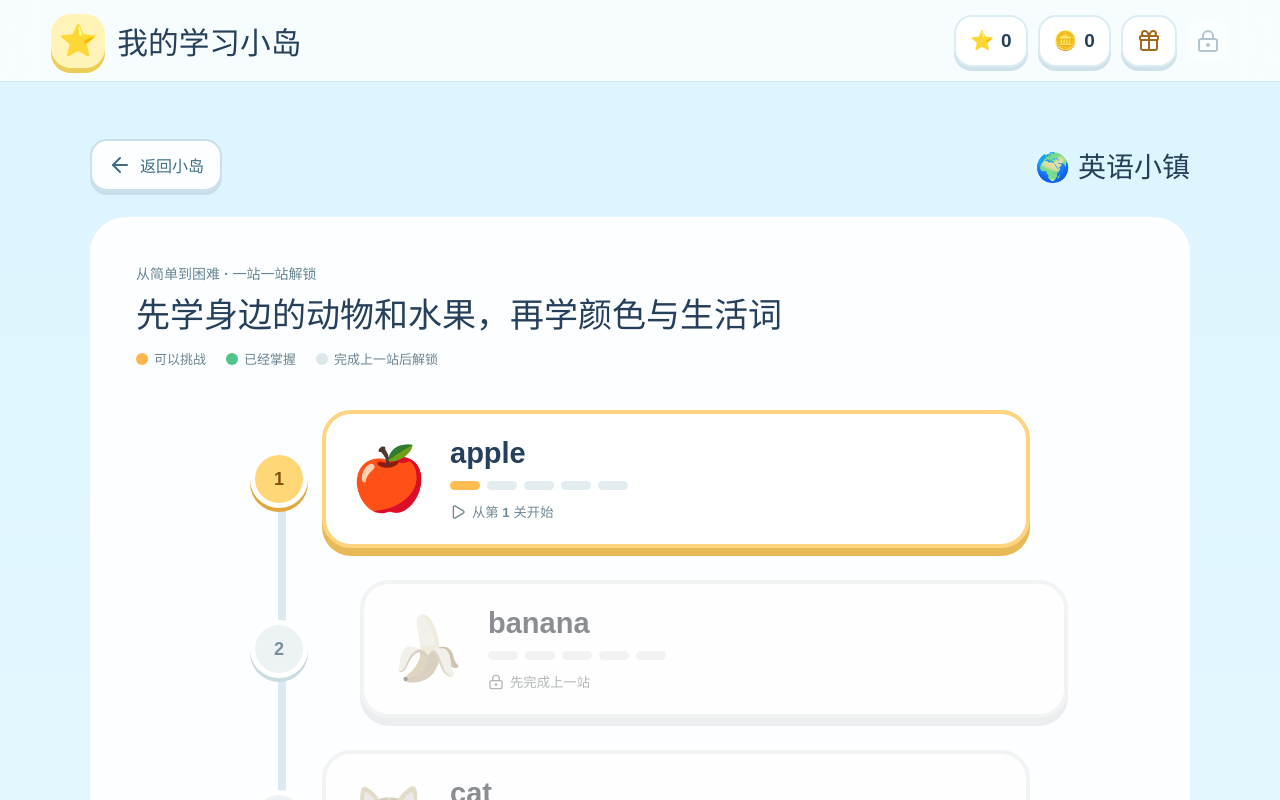
Test case: 我的学习小岛 › 开启后可完成英语知识点的五关挑战
The width and height of the screenshot is (1280, 800).
Earlier steps of the test are not shown.
Click the button with aria-label "apple，开始五关挑战".
click(389, 478)  # box [322,410,1030,548]
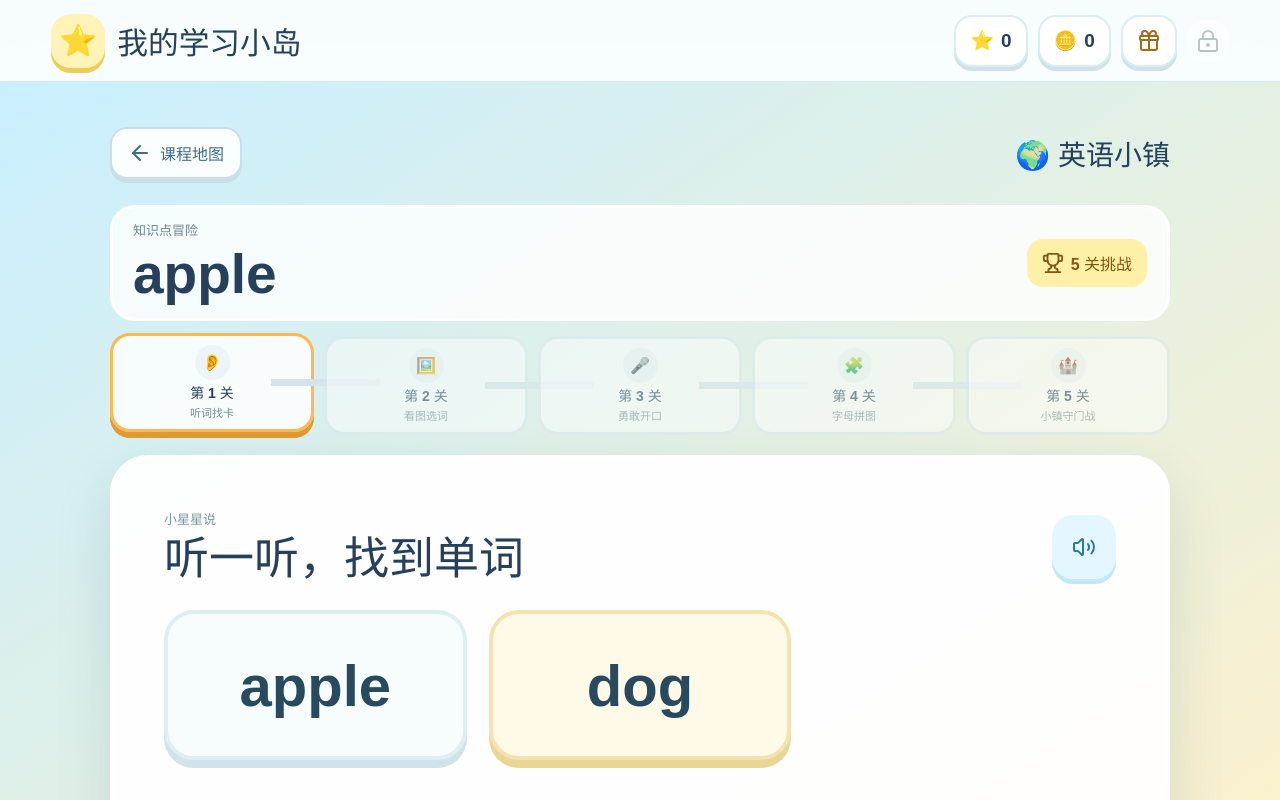
Result: the text "5 关挑战" is shown at [1027,239,1147,287]
Click the button "apple".
click(315, 685)  # box [164,610,467,760]
(page scrolled)
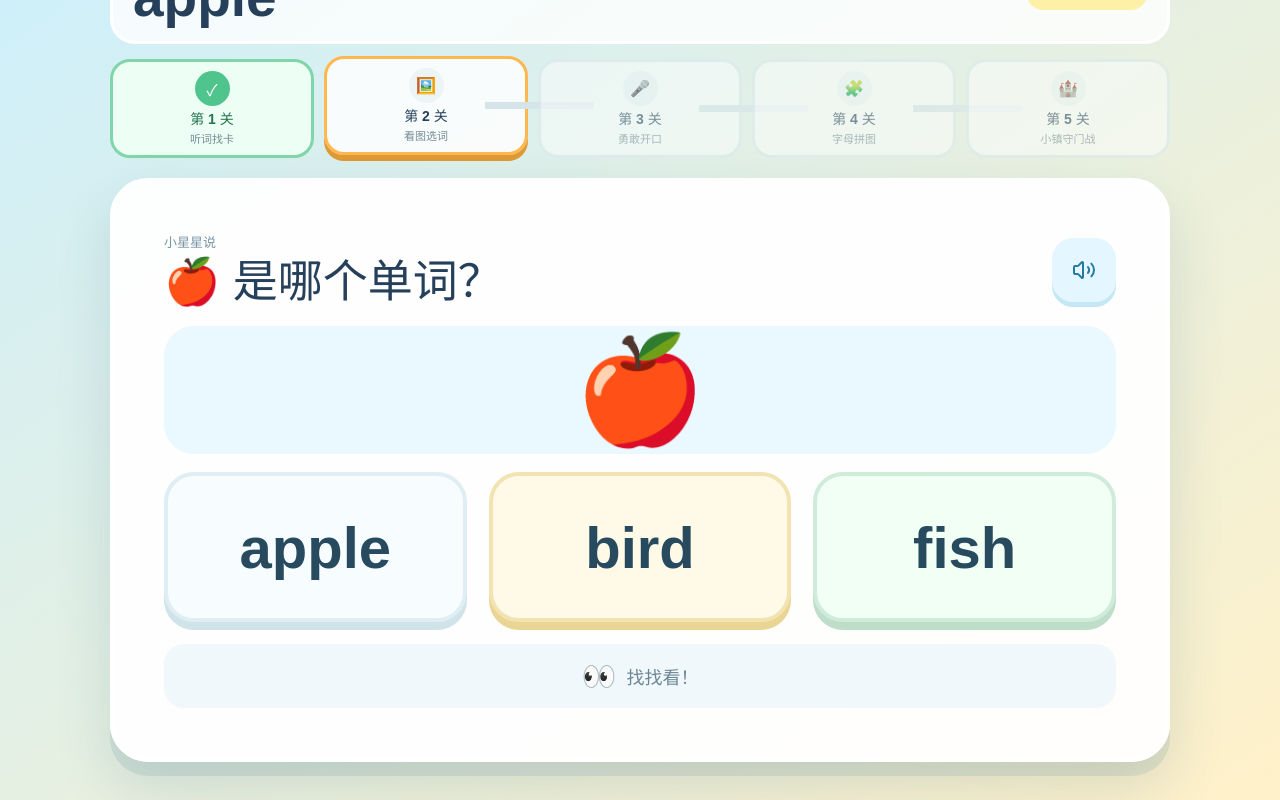
Click the button "apple".
click(315, 547)  # box [164,472,467,622]
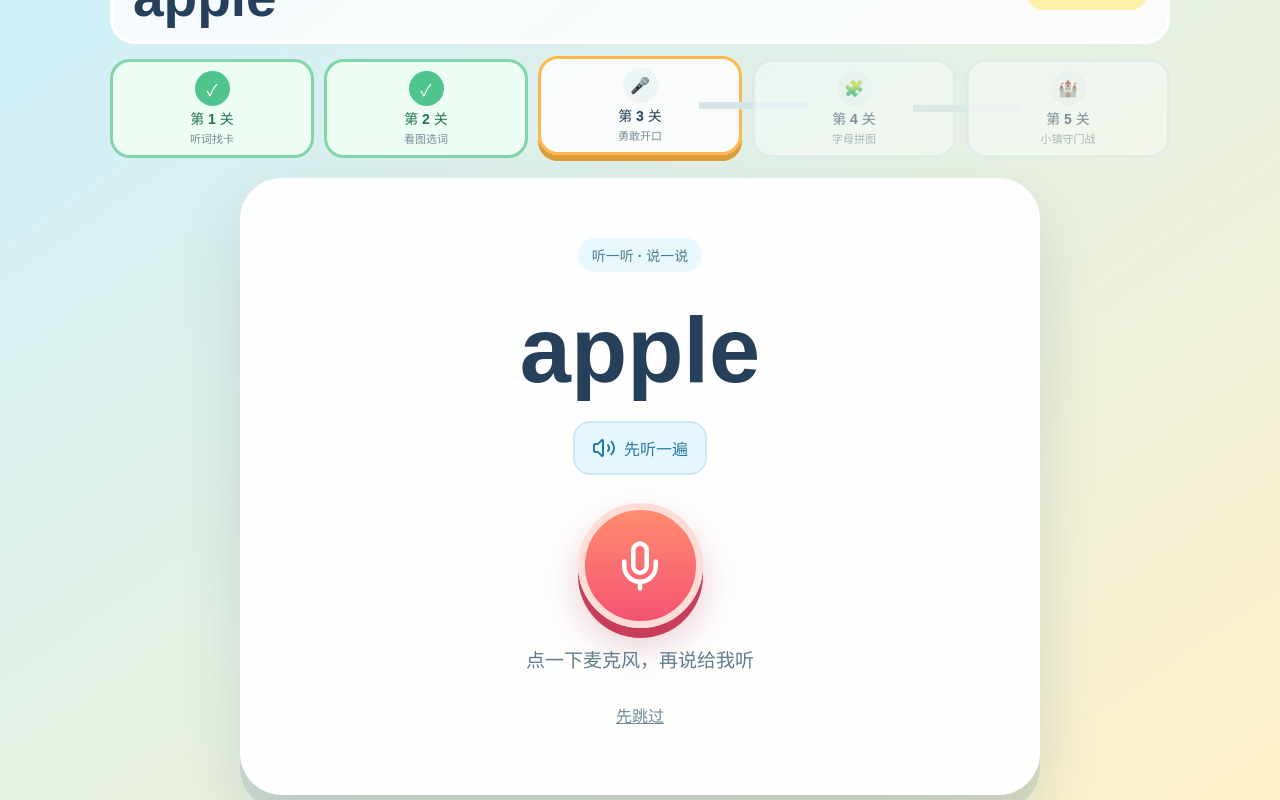
Click the button "先跳过".
click(640, 715)  # box [602,695,678,735]
(page scrolled)
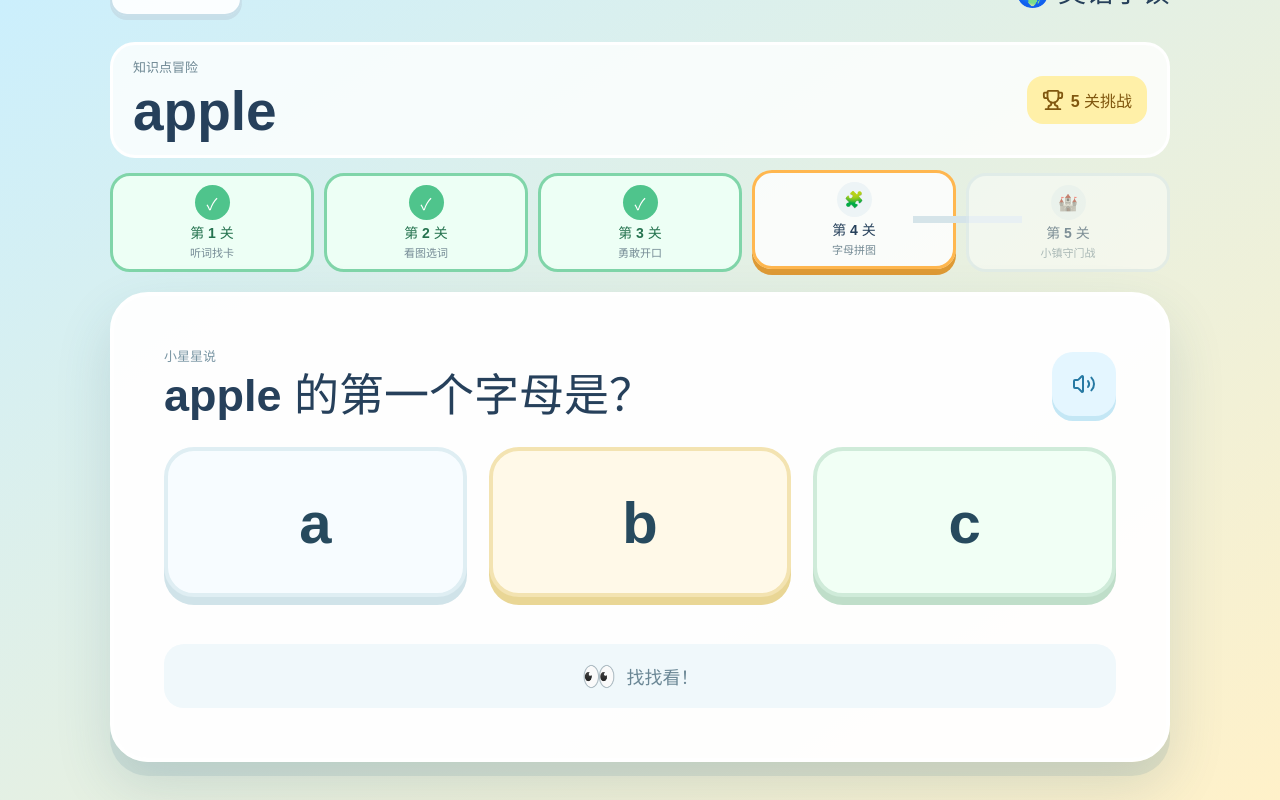
Click the button "a".
click(315, 522)  # box [164,447,467,597]
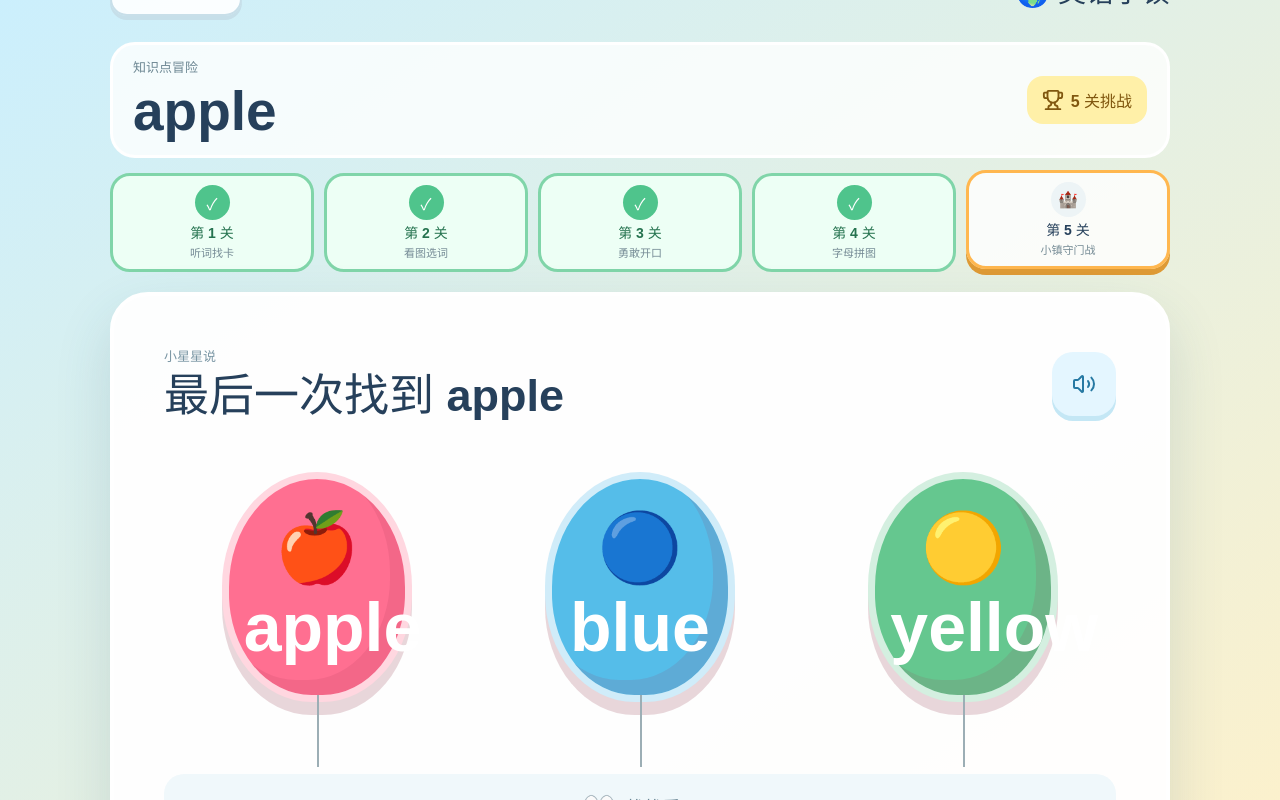
Click the button "🍎 apple".
click(317, 587)  # box [222,472,412,702]
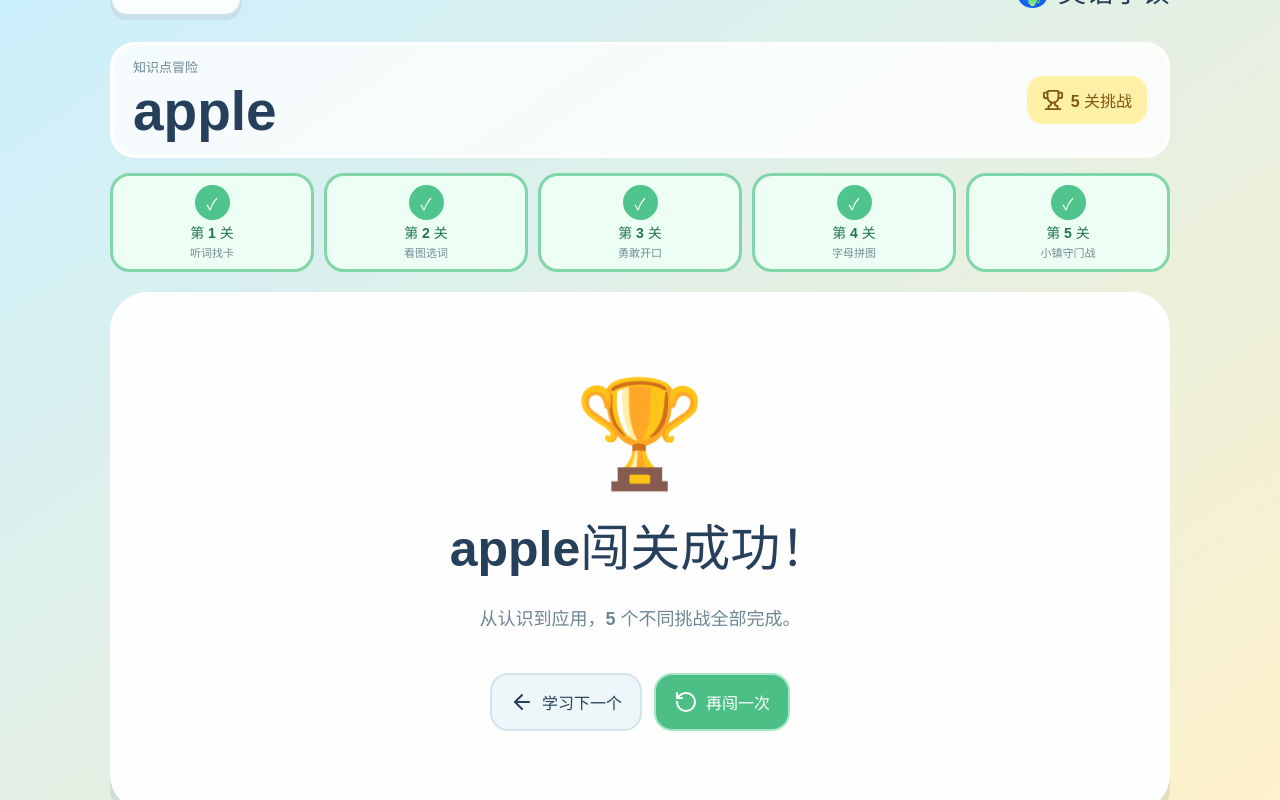
Result: the heading "apple闯关成功！" is shown at [450,508,830,580]
